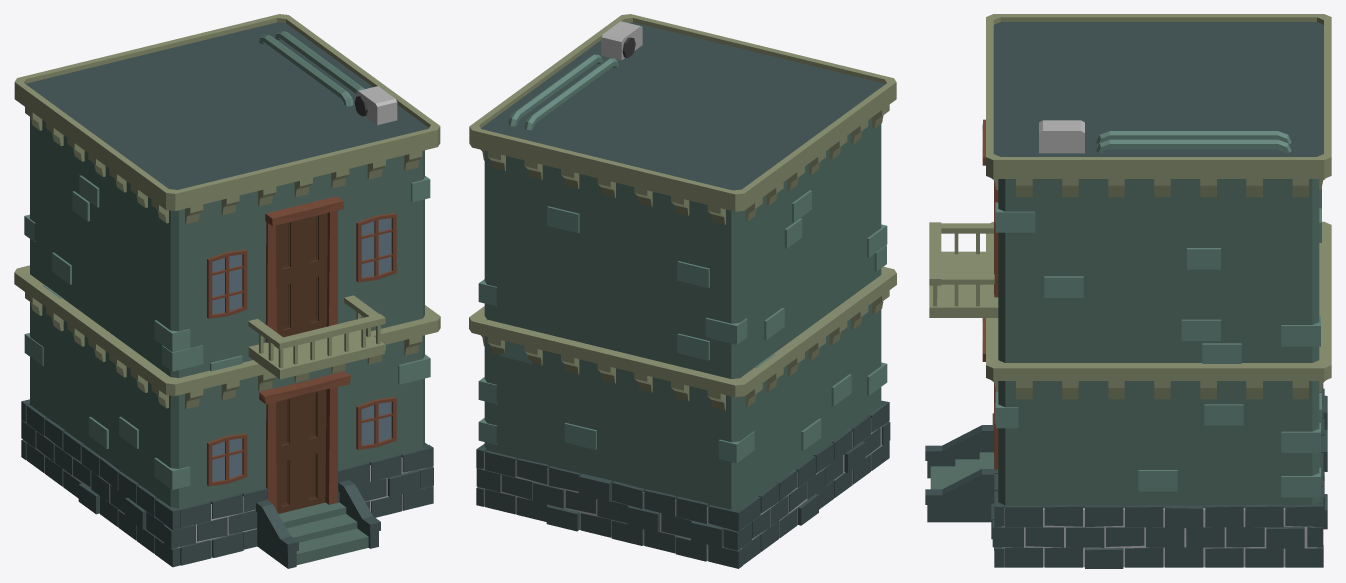
The model's file is 2Story_Balcony.obj.
3 views of the same model, side by side, from view 1: azimuth 30°, elevation 25°; view 2: azimuth 150°, elevation 25°; view 3: azimuth 270°, elevation 25° (orthographic). The views are drawn at different scales.
Bounding box in the file's own units: 2.16 × 2.94 × 2.53.
